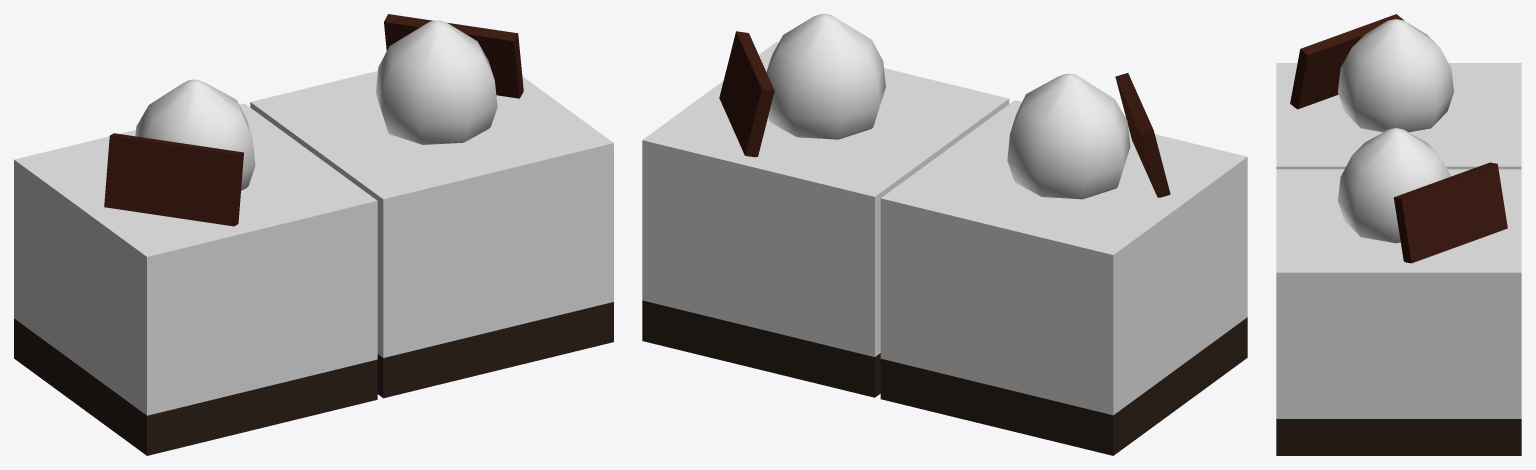
File: cake_blue_2.fbx
The picture shows the model from 3 angles, left to right: view 1: azimuth 30°, elevation 25°; view 2: azimuth 150°, elevation 25°; view 3: azimuth 270°, elevation 25°; orthographic projection. The views are drawn at different scales.
Visible parts, largest first — view 1: 立方体.024; view 2: 立方体.024; view 3: 立方体.024.
Boxes of the visible parts, box(x1,y1,x2,y2) form: 立方体.024: box(14, 14, 613, 455); 立方体.024: box(642, 14, 1247, 455); 立方体.024: box(1276, 14, 1521, 455).
Bounding box in the file's own units: 29.57 × 18.16 × 14.6.
